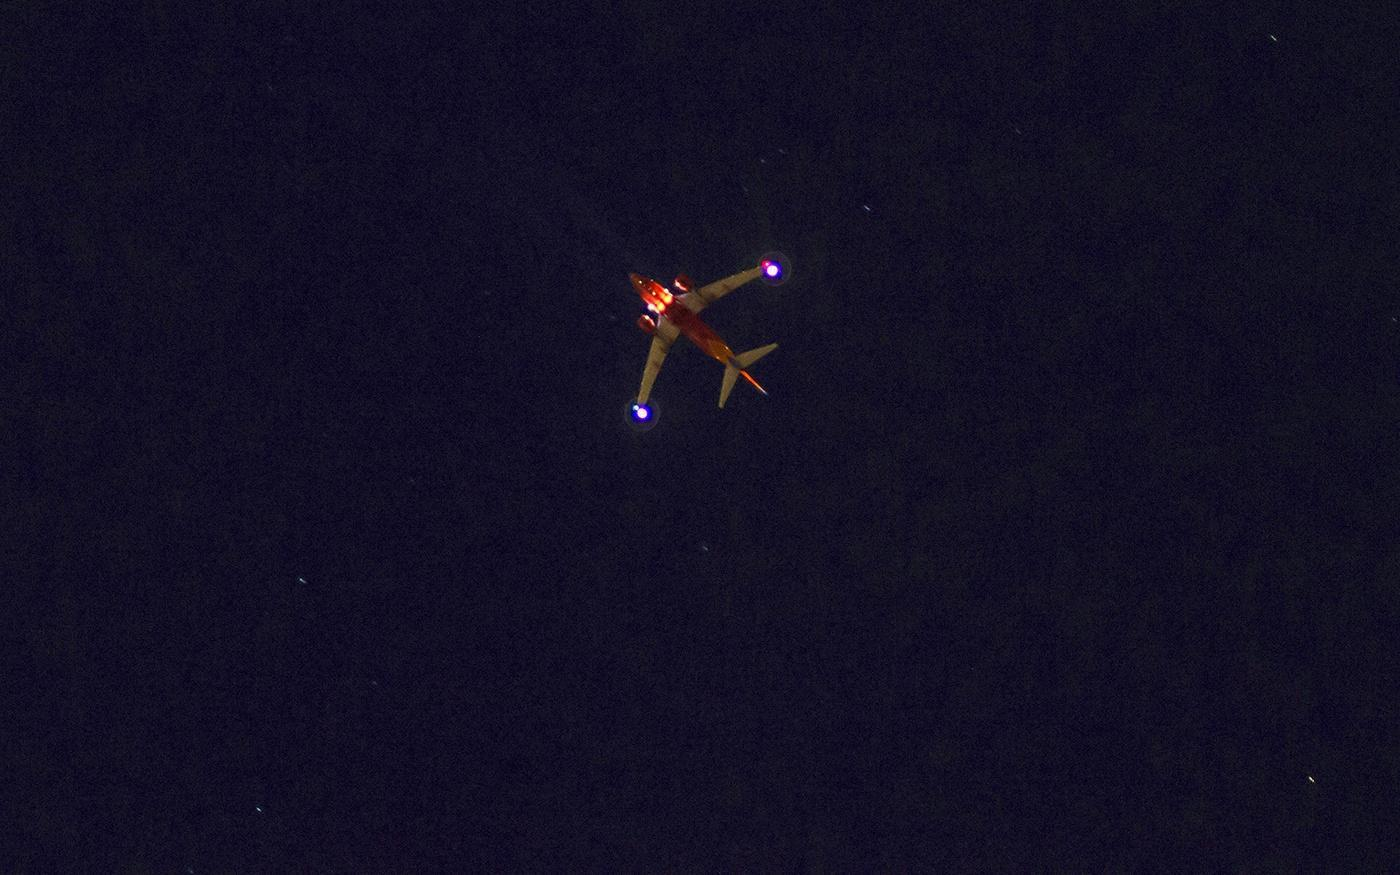Plane: (601, 225, 810, 470)
